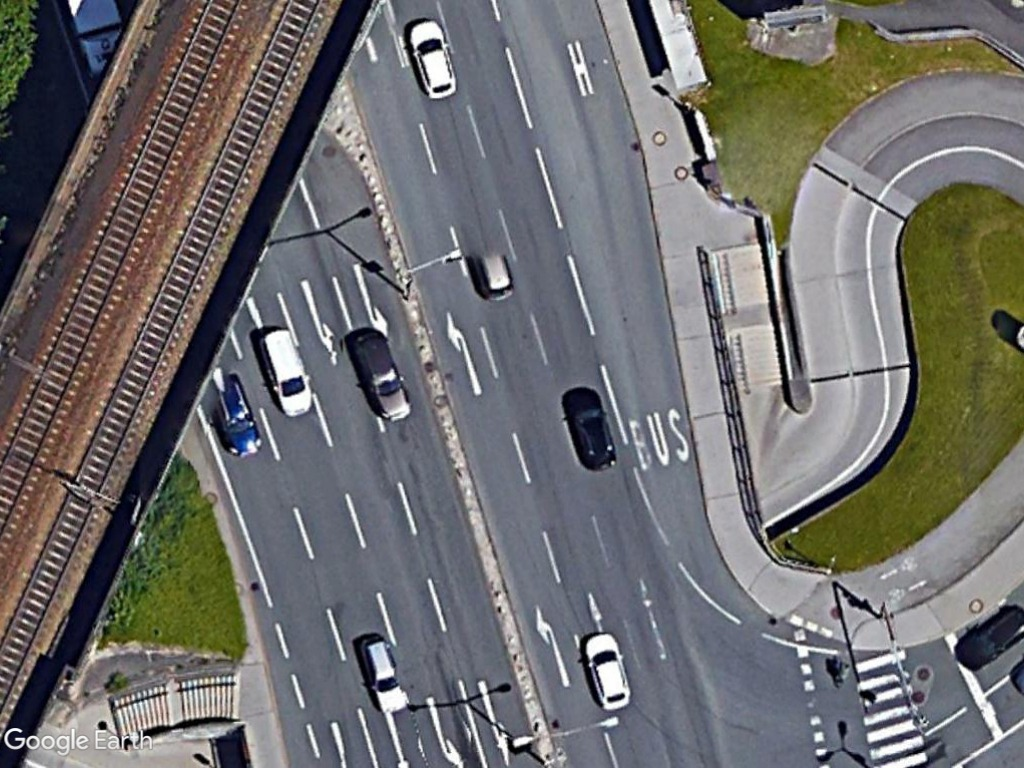car: (347, 324, 416, 429), (252, 321, 318, 423), (352, 629, 414, 719), (403, 13, 463, 105), (559, 389, 622, 475), (577, 626, 635, 713)
